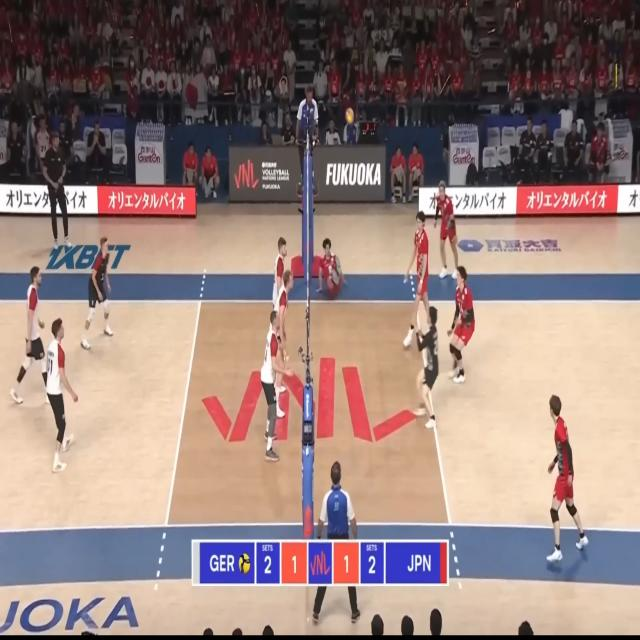ball: (346, 108, 354, 124)
